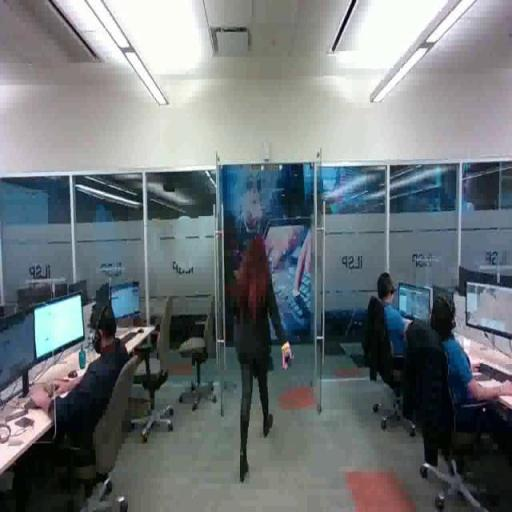person: (30, 296, 149, 509), (404, 284, 512, 498), (231, 235, 293, 483), (369, 271, 439, 406)
